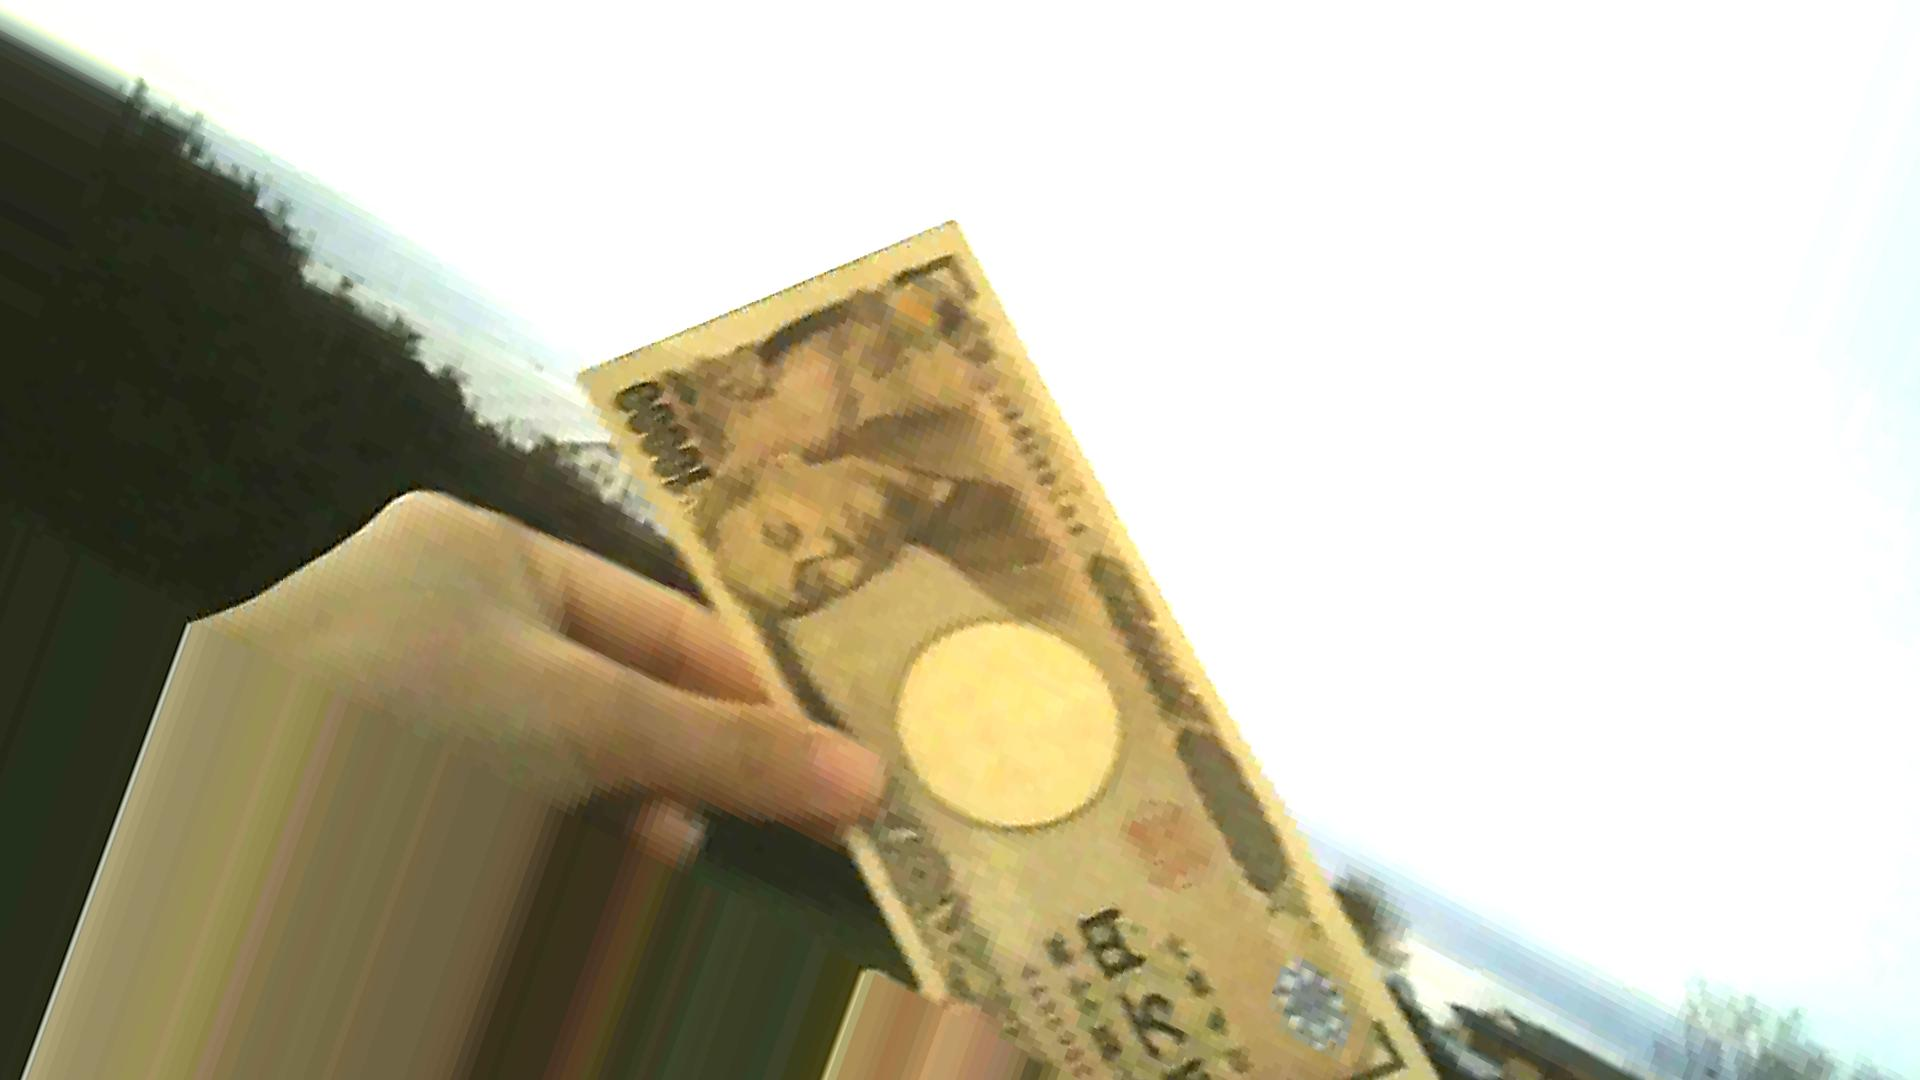10,000 Yen: (564, 225, 1428, 1076)
